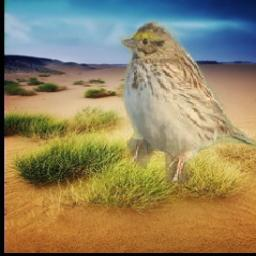Sparrow: (115, 19, 256, 184)
